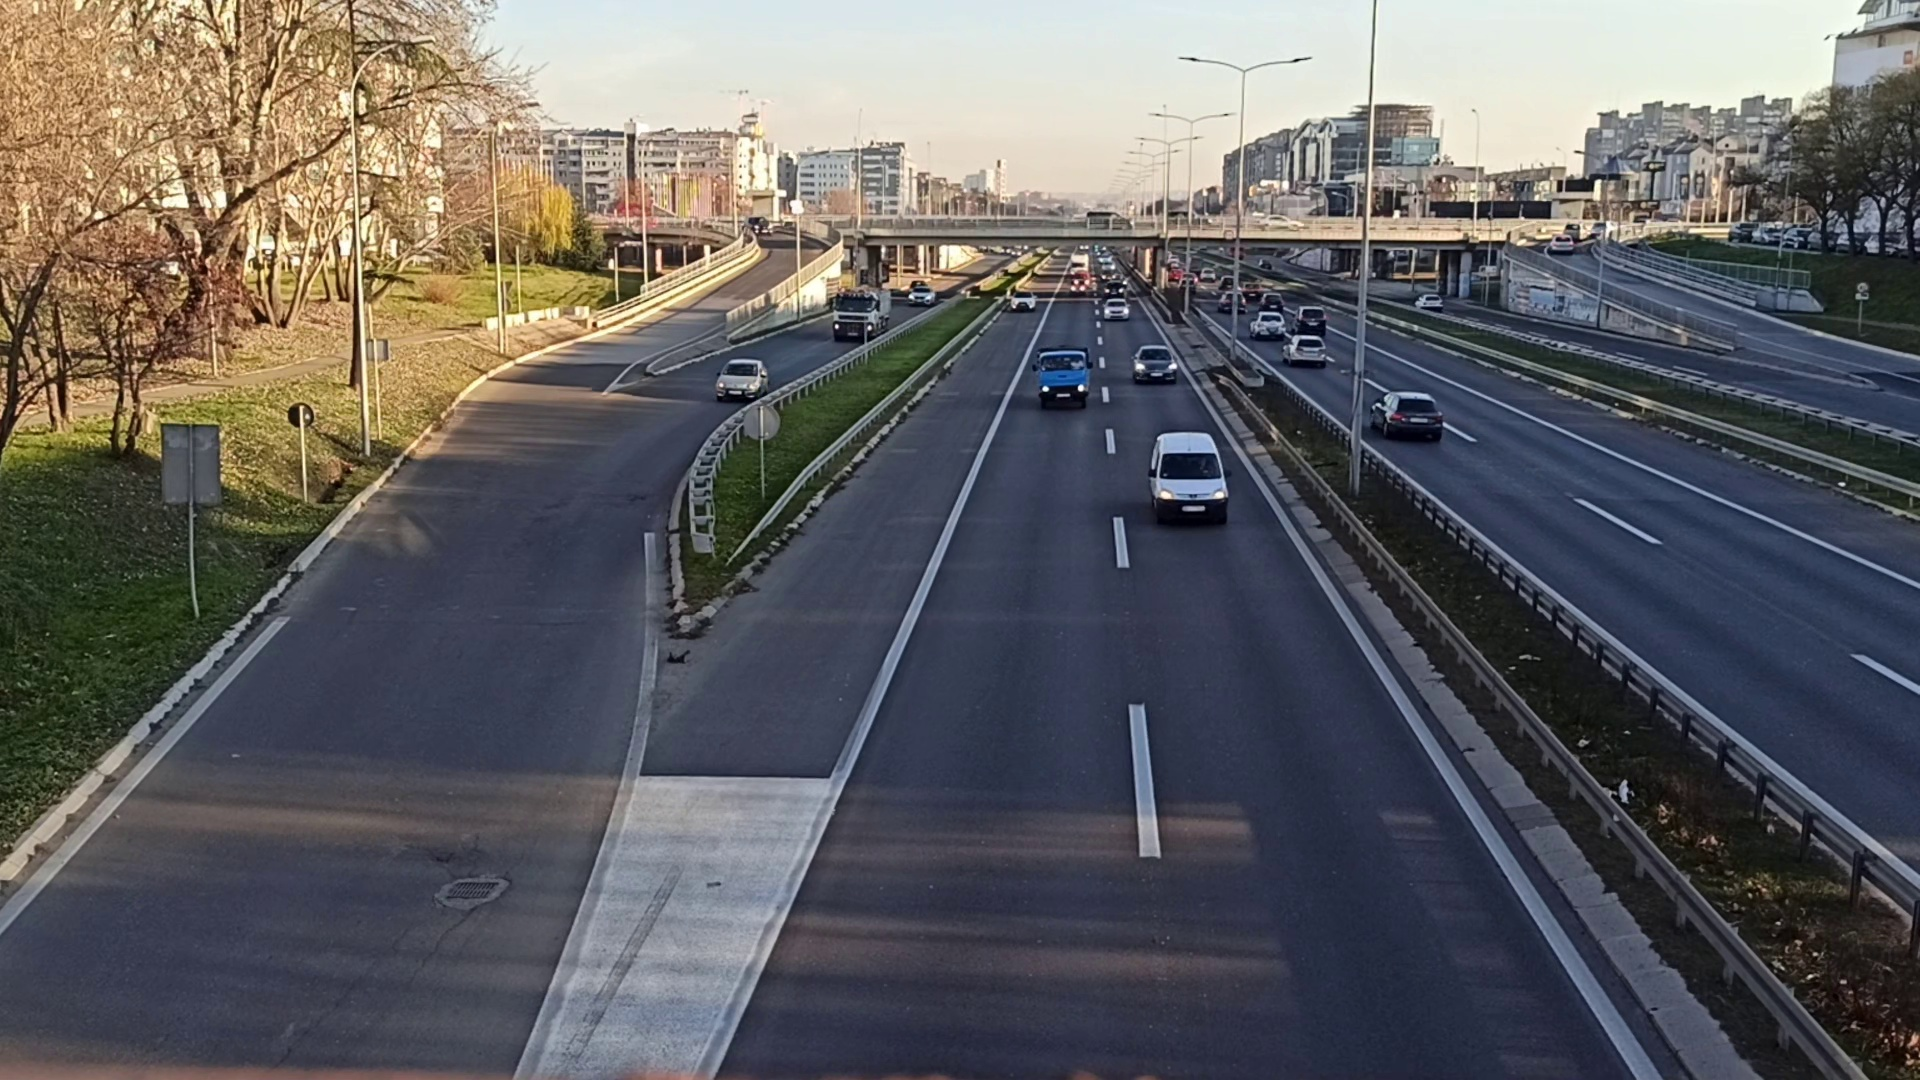car: (1369, 386, 1443, 439), (716, 356, 767, 401), (1130, 344, 1179, 384), (1283, 334, 1325, 367), (1247, 313, 1287, 340), (1295, 305, 1327, 334), (1102, 299, 1130, 320), (909, 284, 935, 305), (1010, 291, 1036, 311)
truck: (1035, 345, 1095, 405), (829, 287, 891, 344)
van: (1145, 430, 1234, 533)
